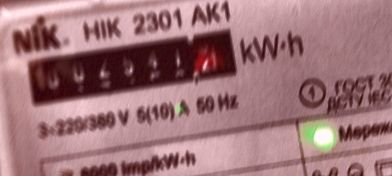0: (42, 63, 64, 91), (69, 57, 87, 85)
1: (168, 41, 185, 69)
2: (93, 53, 113, 80)
4: (144, 45, 161, 70)
5: (118, 48, 140, 78)
6: (197, 53, 215, 73)
screen: (13, 14, 254, 118)
